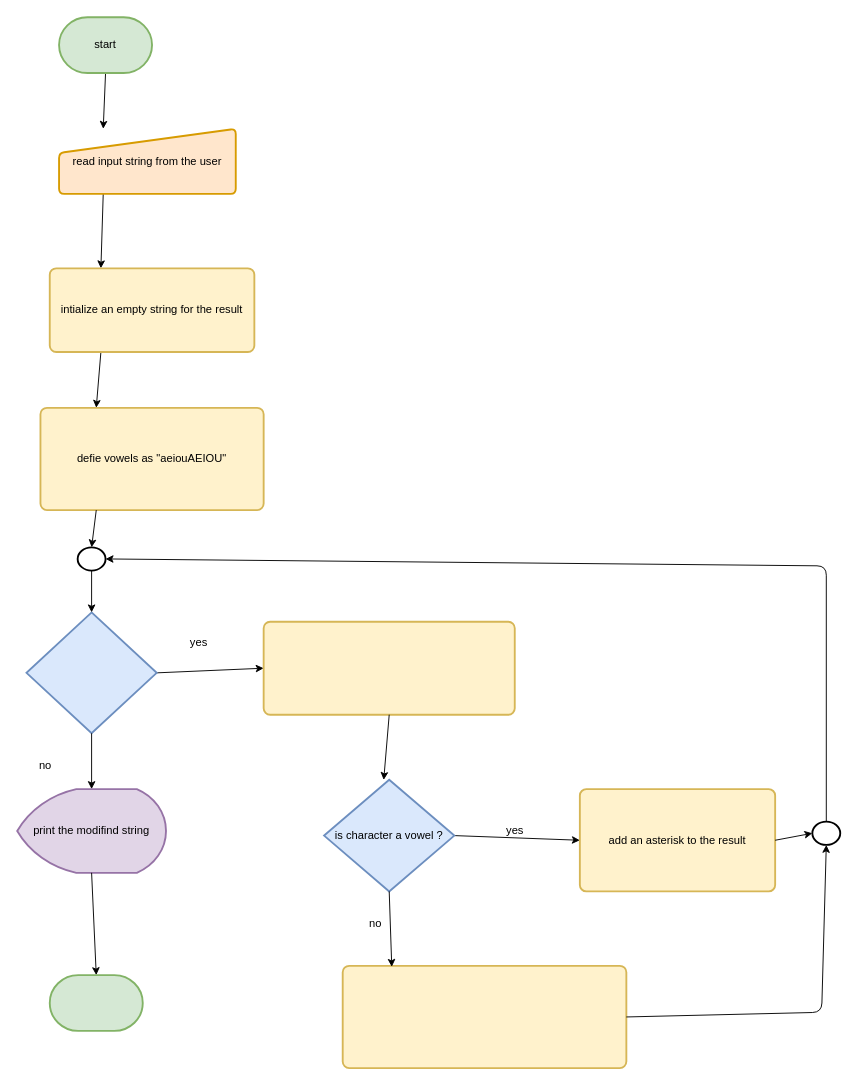
The diagram is 857 pixels wide and 1084 high, and some of its shapes have lost their labels. The shapes that lost their labels are listed below. From the top down, each one's centre as x and y in pixels, then its label:
the point at 91,672: more character in string ?
the point at 388,667: convert character to uppercase
the point at 95,1002: end
the point at 484,1016: add the uppercase character to the result
